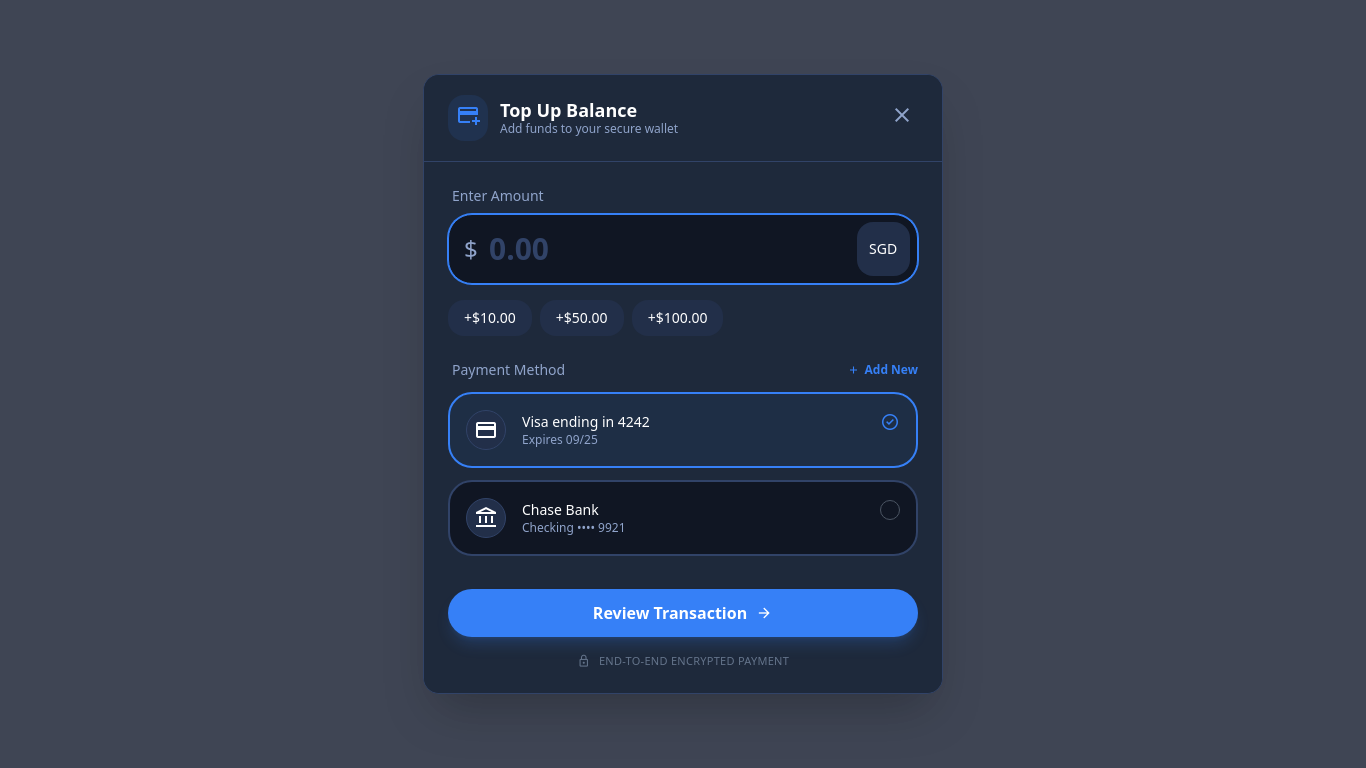
Test case: TopUpModal › Quick Amount Buttons › should update amount when clicking $10 button
Click the button "+$10.00".
click(490, 318)  # box [448,300,532,336]
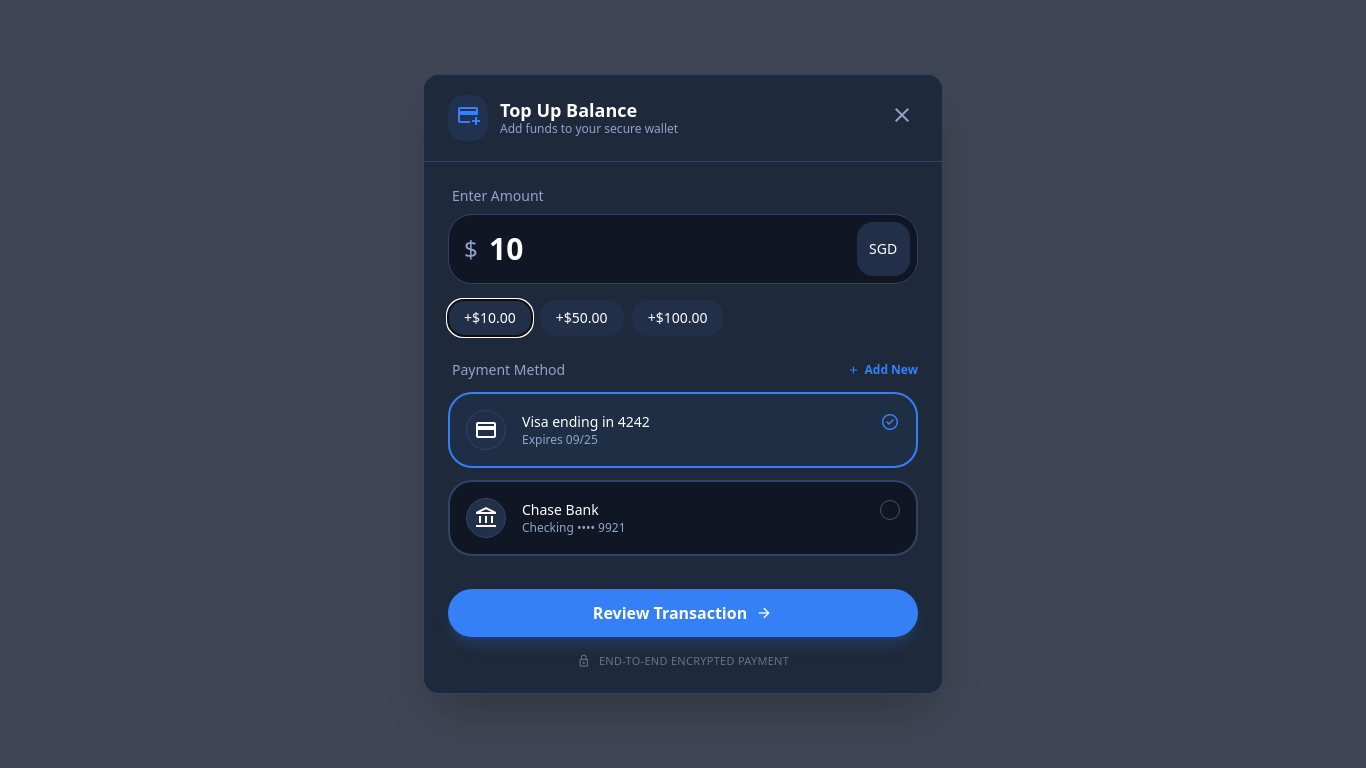
Now the number field with placeholder "0.00" holds "10", box [448,214,918,284]
